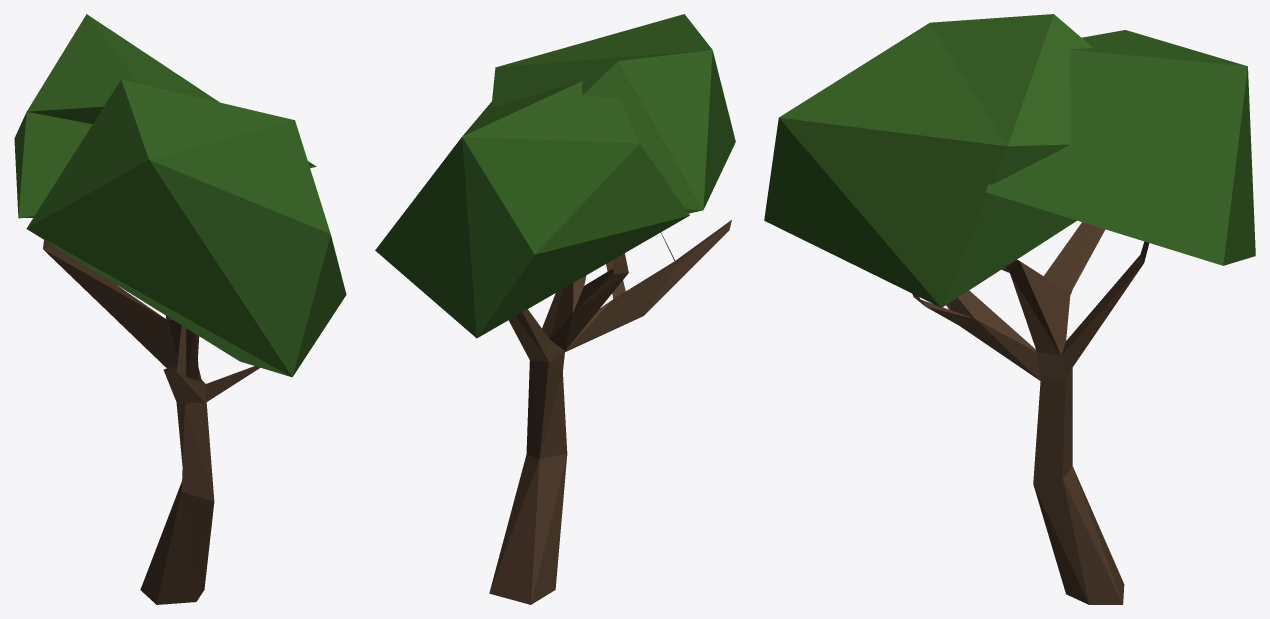
Rendered from tree_b_lod1.glb.
3 views of the same model, side by side, from view 1: azimuth 30°, elevation 25°; view 2: azimuth 150°, elevation 25°; view 3: azimuth 270°, elevation 25° (orthographic). The views are drawn at different scales.
Visible parts, largest first — view 1: tree_b_lod1; view 2: tree_b_lod1; view 3: tree_b_lod1.
Part boxes in pixels (x1,y1,x2,y2): tree_b_lod1: (14, 14, 346, 604); tree_b_lod1: (375, 14, 735, 604); tree_b_lod1: (764, 14, 1255, 604).
Bounding box in the file's own units: 1.26 × 2.54 × 2.08.
